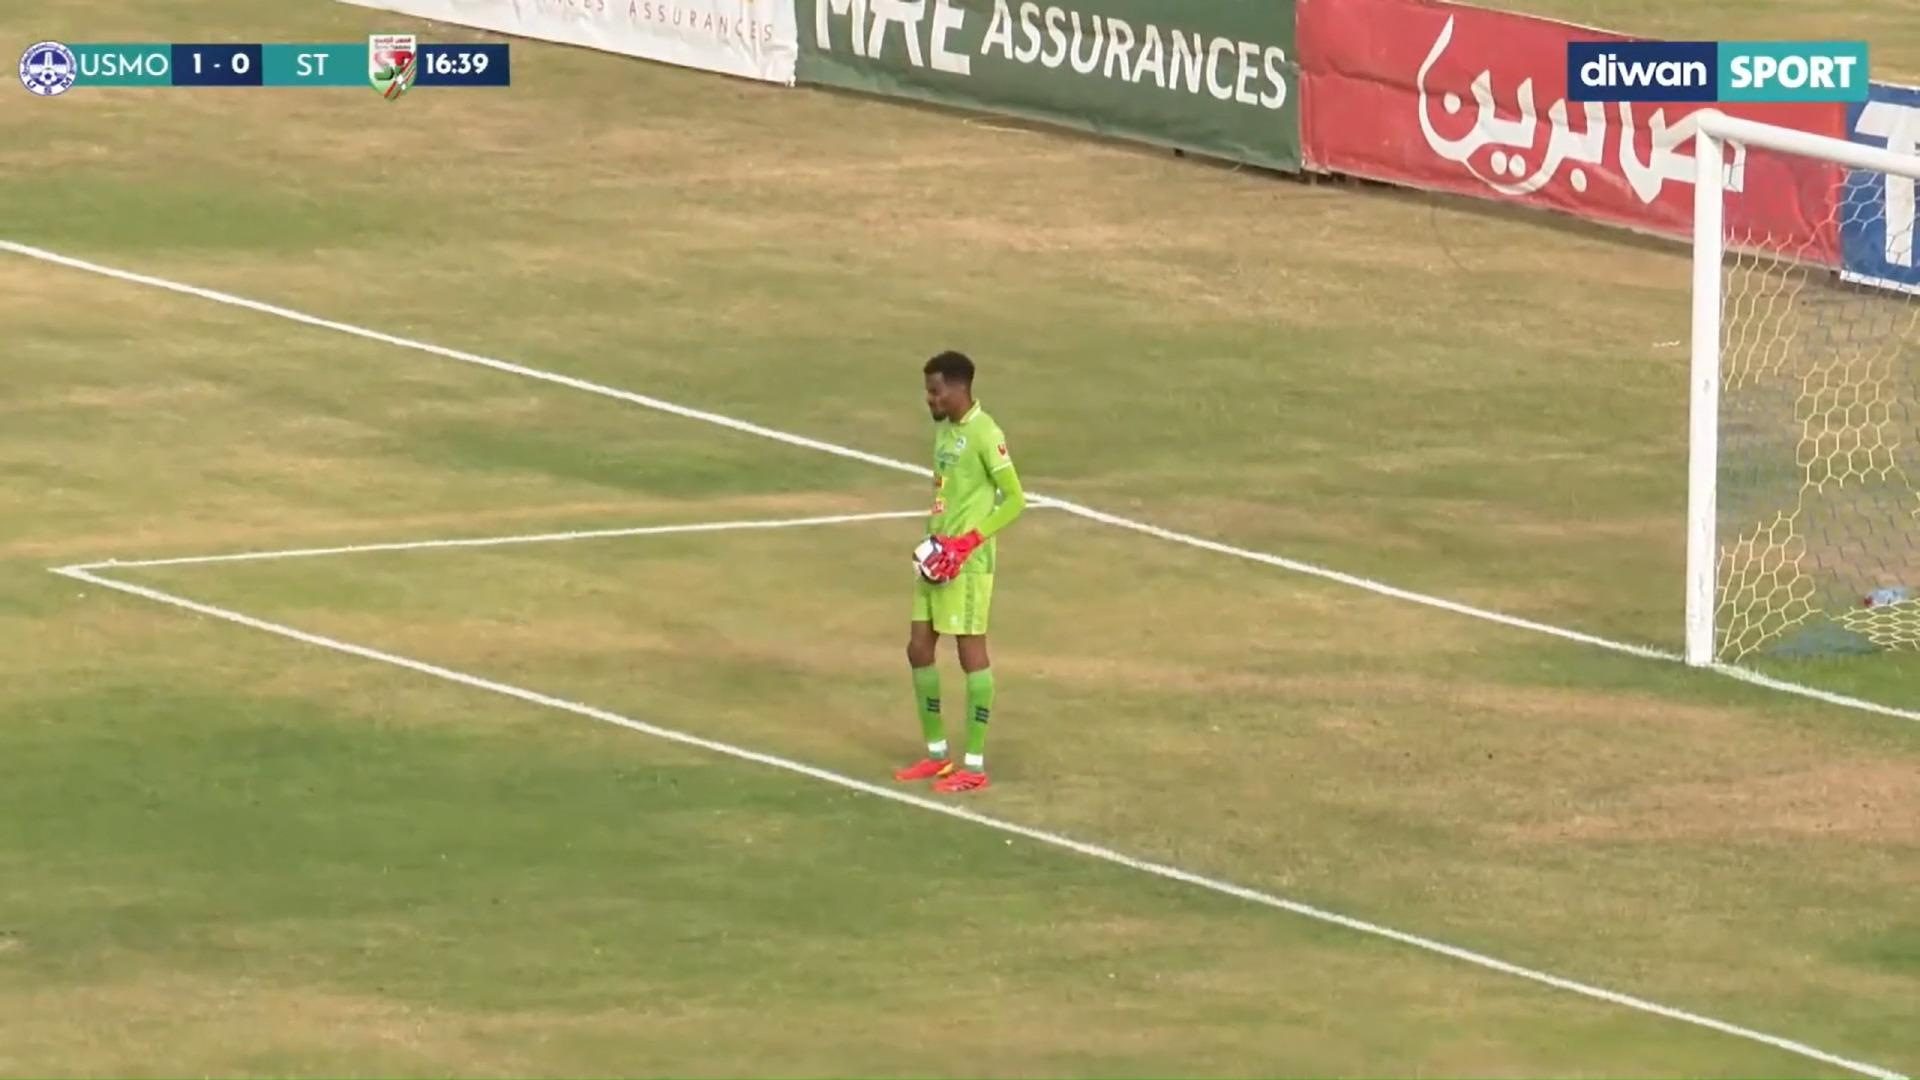ball: (893, 493, 971, 611)
goalkeeper: (833, 318, 1062, 815)
